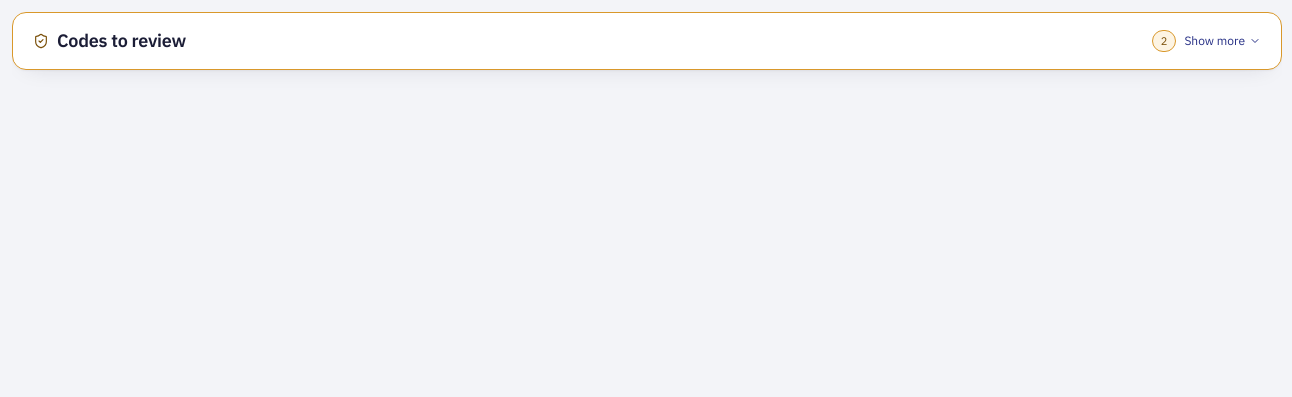
it: only the clicked item waits › confirming one code leaves the other rows usable
The width and height of the screenshot is (1292, 397).
Click the heading "Codes to review".
click(122, 40)  # box [57,29,186,52]
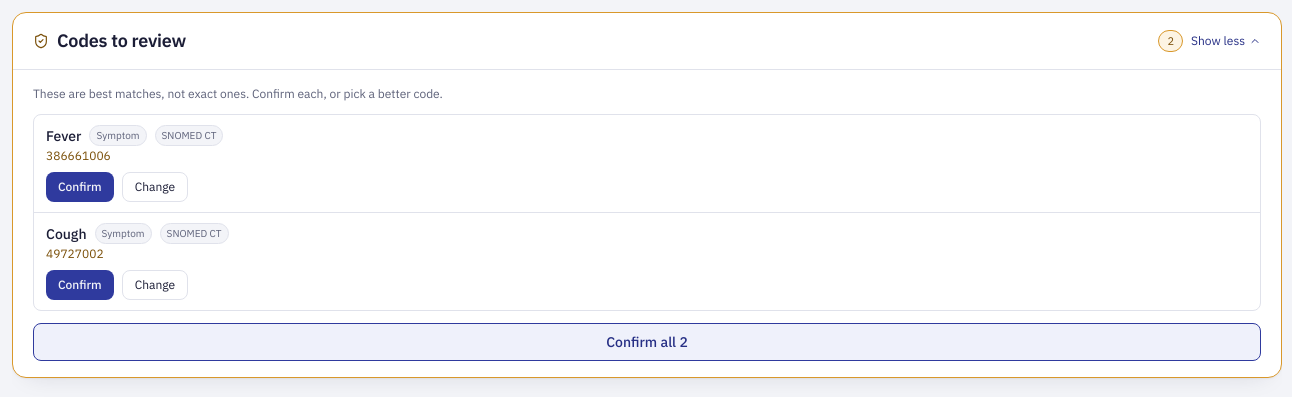
Click the button "Confirm" below "Fever".
click(80, 187)  # box [46,172,114,202]
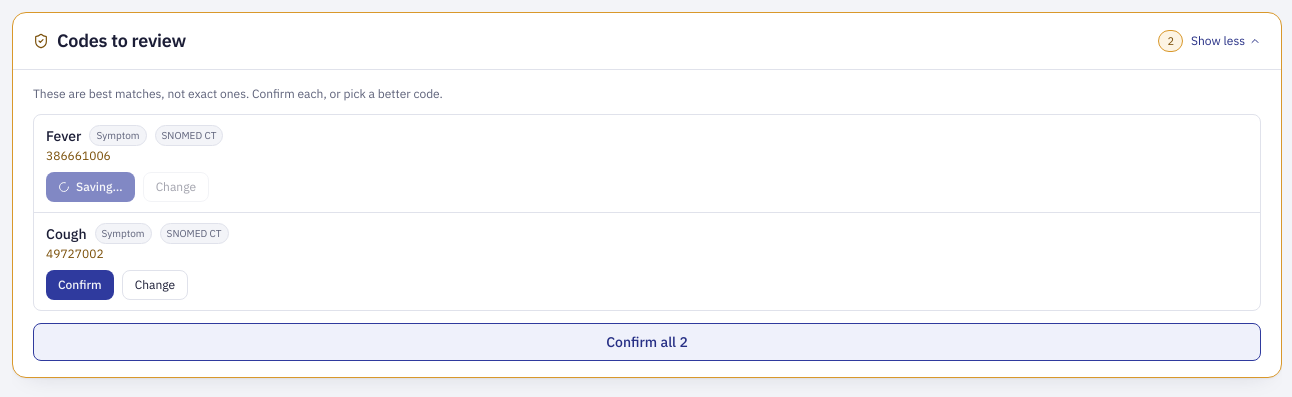
Result: the button "Confirm" is enabled at [46,270,114,300]
Result: the button "Saving…" is shown at [46,172,135,202]
